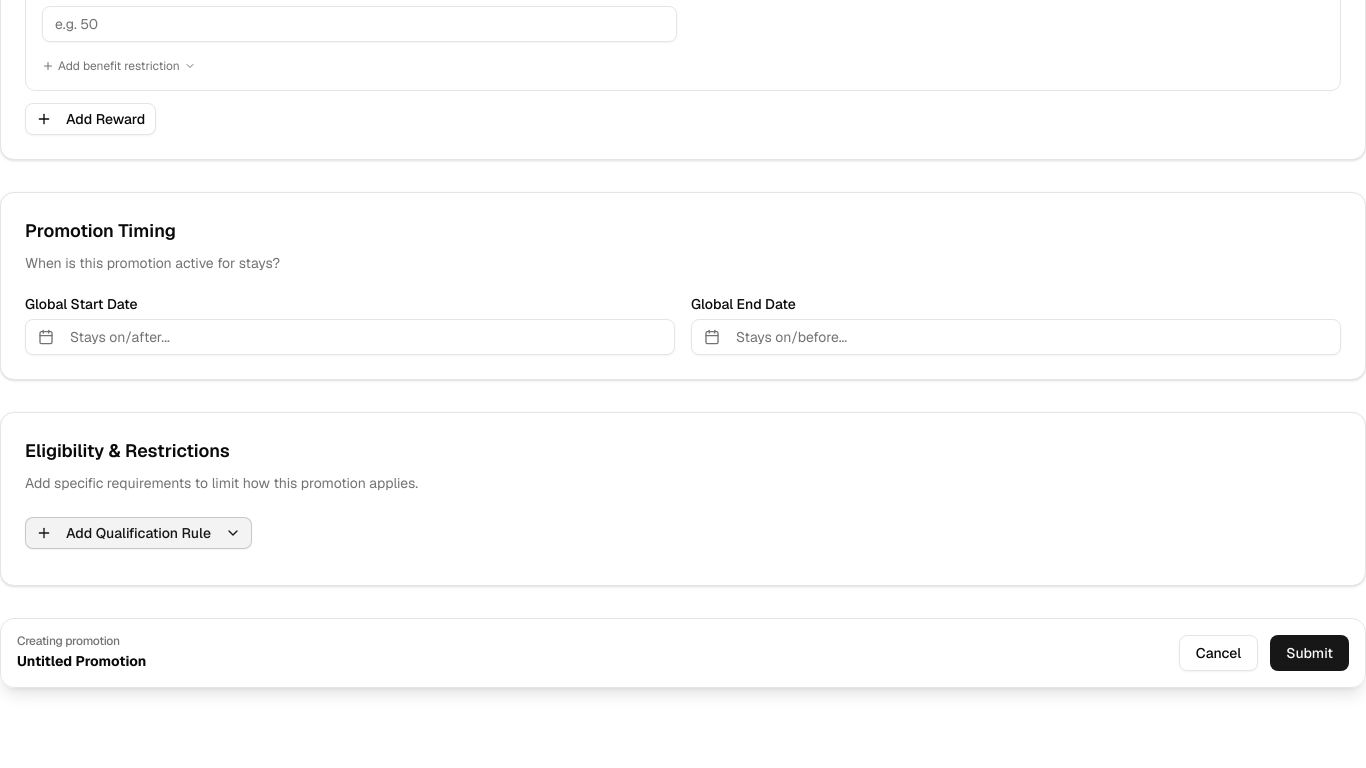
PromotionForm › Booked After Registration restriction › exposes the option in the Add-Restriction picker
(page scrolled)
Step 1. Click the button with test id "restriction-picker-button" → coordinates (138, 533), box [25, 517, 252, 549]
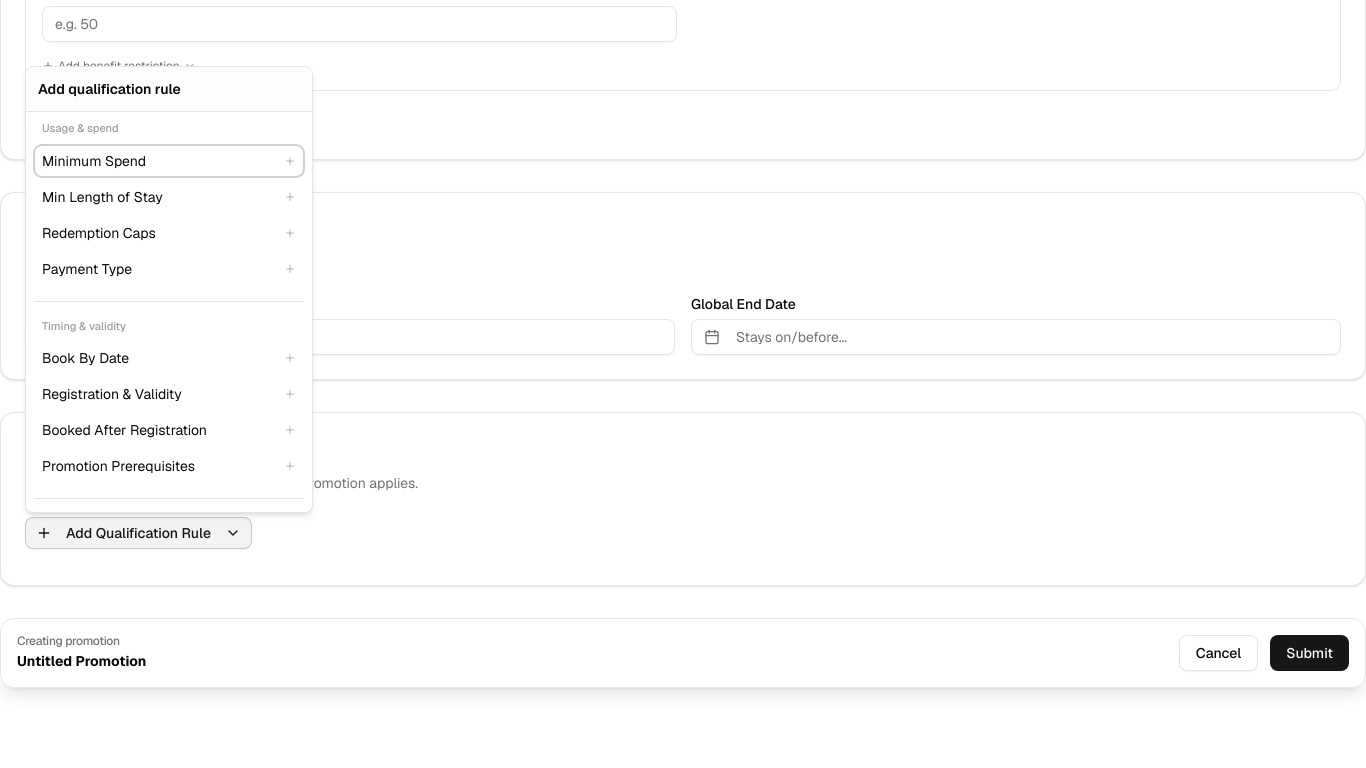
Result: the button with test id "restriction-option-booked_after_registration" is shown at [34, 414, 304, 446]
